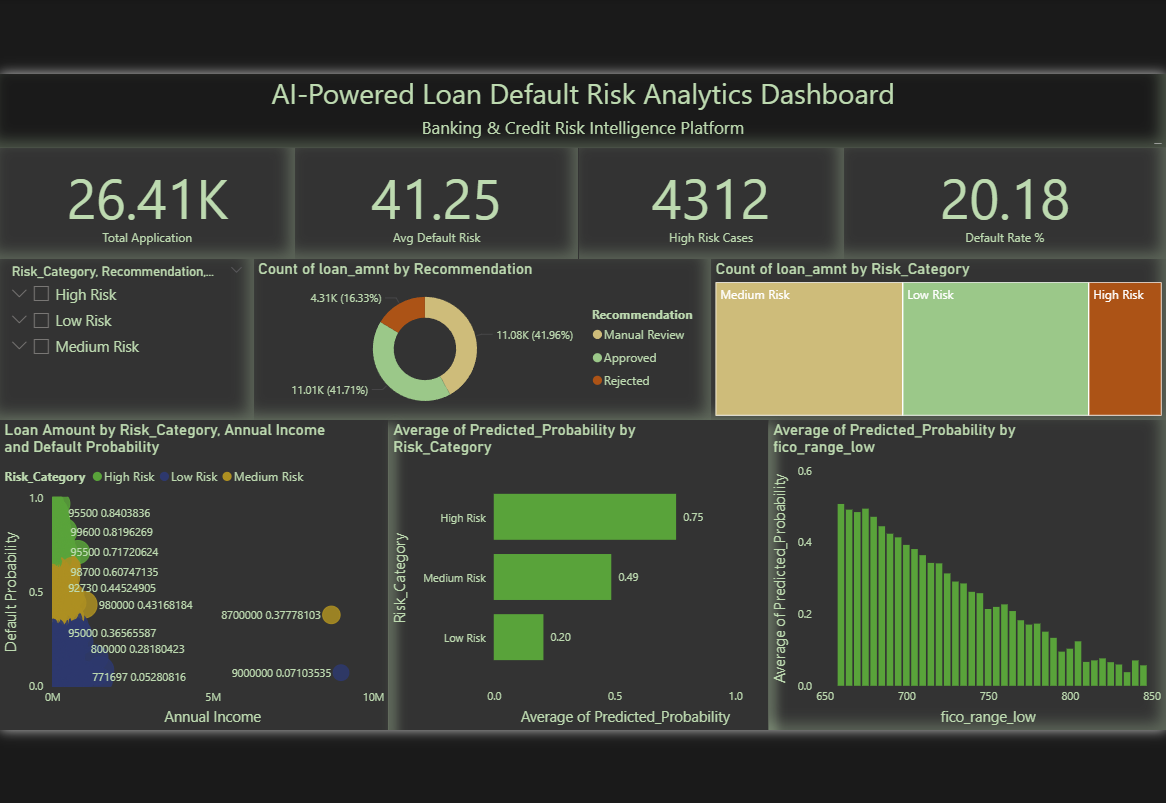

The dashboard page shown, as its layout file describes it:
{"tool":"powerbi","page":{"name":"Page 1","canvas":[1280,720],"ordinal":0},"visuals":[{"type":"card","title":"Total Applications","fields":{"Values":["CountNonNull(loan_risk_dashboard_data.loan_amnt)"]},"box":[0,81,323.8,122.1],"z":0},{"type":"card","fields":{"Values":["loan_risk_dashboard_data.Average Risk Score"]},"box":[323.8,81,311.5,122.1],"z":1000},{"type":"card","fields":{"Values":["loan_risk_dashboard_data.High Risk Borrowers"]},"box":[635.3,81,290.9,122.1],"z":2000},{"type":"card","fields":{"Values":["loan_risk_dashboard_data.Default Rate %"]},"box":[926.2,81,354,122.1],"z":3000},{"type":"treemap","fields":{"Group":["loan_risk_dashboard_data.Risk_Category"],"Values":["CountNonNull(loan_risk_dashboard_data.loan_amnt)"]},"box":[780.8,203.1,499.5,177],"z":4000},{"type":"donutChart","fields":{"Category":["loan_risk_dashboard_data.Recommendation"],"Y":["CountNonNull(loan_risk_dashboard_data.loan_amnt)"]},"box":[278.6,203.1,502.2,177],"z":5000},{"type":"clusteredBarChart","fields":{"Category":["loan_risk_dashboard_data.Risk_Category"],"Y":["Avg(loan_risk_dashboard_data.Predicted_Probability)"]},"box":[426.8,380.1,417.2,340.3],"z":6000},{"type":"scatterChart","fields":{"X":["loan_risk_dashboard_data.annual_inc"],"Y":["loan_risk_dashboard_data.Predicted_Probability"],"Series":["loan_risk_dashboard_data.Risk_Category"],"Size":["Sum(loan_risk_dashboard_data.loan_amnt)"]},"box":[0,380.1,426.8,340.3],"z":7000},{"type":"columnChart","fields":{"Category":["loan_risk_dashboard_data.fico_range_low"],"Y":["Avg(loan_risk_dashboard_data.Predicted_Probability)"]},"box":[843.9,380.1,436.4,340.3],"z":8000},{"type":"slicer","fields":{"Values":["loan_risk_dashboard_data.Risk_Category","loan_risk_dashboard_data.Recommendation","loan_risk_dashboard_data.term_ 60 months","loan_risk_dashboard_data.grade_B","loan_risk_dashboard_data.grade_C","loan_risk_dashboard_data.grade_D","loan_risk_dashboard_data.grade_E","loan_risk_dashboard_data.grade_F","loan_risk_dashboard_data.grade_G"]},"box":[0,203.1,278.6,177],"z":9000},{"type":"textbox","title":"AI-Powered Loan Default Risk Analytics Dashboard","box":[0,0,1280.3,81],"z":9001}]}

Visuals, with their boxes on the page's 1280x720 design canvas (x1, y1, x2, y2). These are canvas units, not pixel positions in the 1166x803 screenshot, which may show the page scaled, cropped or inside an application window:
"Total Applications" card: [left=0, top=81, right=324, bottom=203]
card - loan_risk_dashboard_data.Average Risk Score: [left=324, top=81, right=635, bottom=203]
card - loan_risk_dashboard_data.High Risk Borrowers: [left=635, top=81, right=926, bottom=203]
card - loan_risk_dashboard_data.Default Rate %: [left=926, top=81, right=1280, bottom=203]
treemap - loan_risk_dashboard_data.Risk_Category x CountNonNull(loan_risk_dashboard_data.loan_amnt): [left=781, top=203, right=1280, bottom=380]
donutChart - loan_risk_dashboard_data.Recommendation x CountNonNull(loan_risk_dashboard_data.loan_amnt): [left=279, top=203, right=781, bottom=380]
clusteredBarChart - loan_risk_dashboard_data.Risk_Category x Avg(loan_risk_dashboard_data.Predicted_Probability): [left=427, top=380, right=844, bottom=720]
scatterChart - loan_risk_dashboard_data.annual_inc x loan_risk_dashboard_data.Predicted_Probability: [left=0, top=380, right=427, bottom=720]
columnChart - loan_risk_dashboard_data.fico_range_low x Avg(loan_risk_dashboard_data.Predicted_Probability): [left=844, top=380, right=1280, bottom=720]
slicer - loan_risk_dashboard_data.Risk_Category x loan_risk_dashboard_data.Recommendation: [left=0, top=203, right=279, bottom=380]
"AI-Powered Loan Default Risk Analytics Dashboard" textbox: [left=0, top=0, right=1280, bottom=81]
